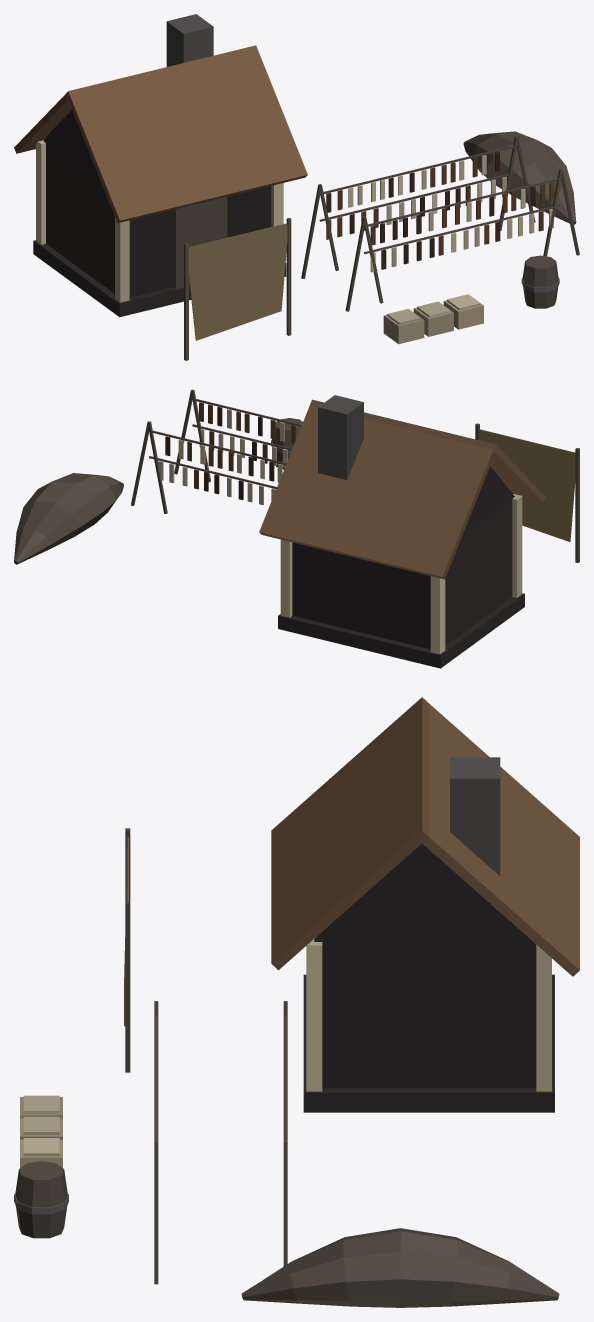
Rendered from walk_ashen_fishery.glb.
3 renders of one model, top to bottom at view 1: azimuth 30°, elevation 25°; view 2: azimuth 150°, elevation 25°; view 3: azimuth 270°, elevation 25°, orthographic. The views are drawn at different scales.
Visible parts, largest first — view 1: walk_ashen_fishery, walk_ashen_fishery_roof; view 2: walk_ashen_fishery, walk_ashen_fishery_roof; view 3: walk_ashen_fishery, walk_ashen_fishery_roof.
Boxes of the visible parts, left/top/right/bottom form: walk_ashen_fishery: left=33, top=110, right=579, bottom=360; walk_ashen_fishery_roof: left=14, top=14, right=307, bottom=223; walk_ashen_fishery: left=14, top=389, right=579, bottom=668; walk_ashen_fishery_roof: left=259, top=395, right=545, bottom=579; walk_ashen_fishery: left=14, top=828, right=559, bottom=1307; walk_ashen_fishery_roof: left=271, top=697, right=579, bottom=976.
Size of what is drawn, in the model's own units: 11.15 by 4.9 by 7.88.
2 materials, 2 textured.
